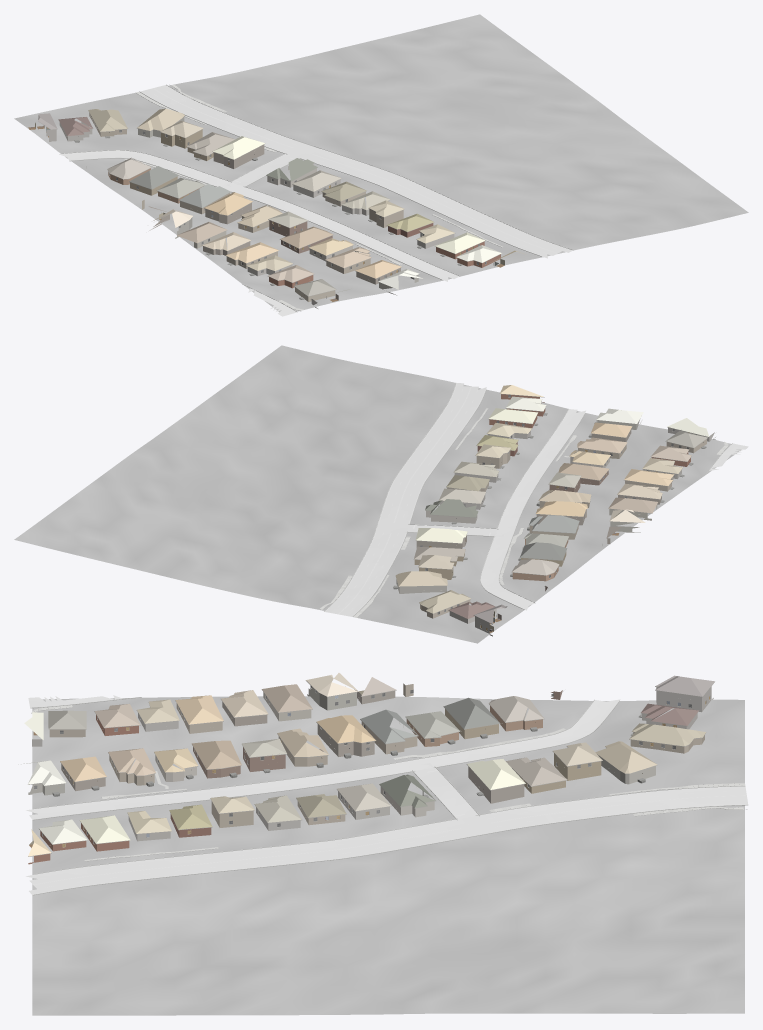
The picture shows the model from 3 angles, top to bottom: view 1: azimuth 30°, elevation 25°; view 2: azimuth 150°, elevation 25°; view 3: azimuth 270°, elevation 25°; orthographic projection. The views are drawn at different scales.
Visible parts, largest first — view 1: ground, roof, asphalt, wall, concrete, detail, curb, wall_stucco, wall_stone, walk; view 2: ground, roof, asphalt, concrete, wall, detail, wall_stucco, curb, wall_stone, walk; view 3: ground, roof, asphalt, wall, concrete, curb, wall_stucco, detail, wall_stone, walk, mark_w.
Boxes of the visible parts, <box> form: ground: <box>14,14,748,312</box>; roof: <box>38,108,523,296</box>; asphalt: <box>140,85,572,258</box>; wall: <box>89,113,500,288</box>; concrete: <box>59,150,459,316</box>; detail: <box>30,112,509,301</box>; curb: <box>62,84,572,311</box>; wall_stucco: <box>138,117,418,301</box>; wall_stone: <box>46,122,454,308</box>; walk: <box>124,85,502,310</box>; ground: <box>14,345,741,643</box>; roof: <box>395,385,709,623</box>; asphalt: <box>324,383,486,616</box>; concrete: <box>396,409,748,610</box>; wall: <box>414,394,690,618</box>; detail: <box>393,393,715,630</box>; wall_stucco: <box>396,419,706,593</box>; curb: <box>324,383,732,616</box>; wall_stone: <box>439,427,715,636</box>; walk: <box>319,408,728,617</box>; ground: <box>32,696,744,1015</box>; roof: <box>18,673,714,856</box>; asphalt: <box>26,786,748,894</box>; wall: <box>28,683,704,864</box>; concrete: <box>26,695,620,825</box>; curb: <box>30,697,747,895</box>; wall_stucco: <box>28,687,655,825</box>; detail: <box>28,681,714,856</box>; wall_stone: <box>32,686,713,841</box>; walk: <box>31,705,745,861</box>; mark_w: <box>33,770,742,894</box>.
Bounding box in the file's own units: 261 × 15.49 × 258.
